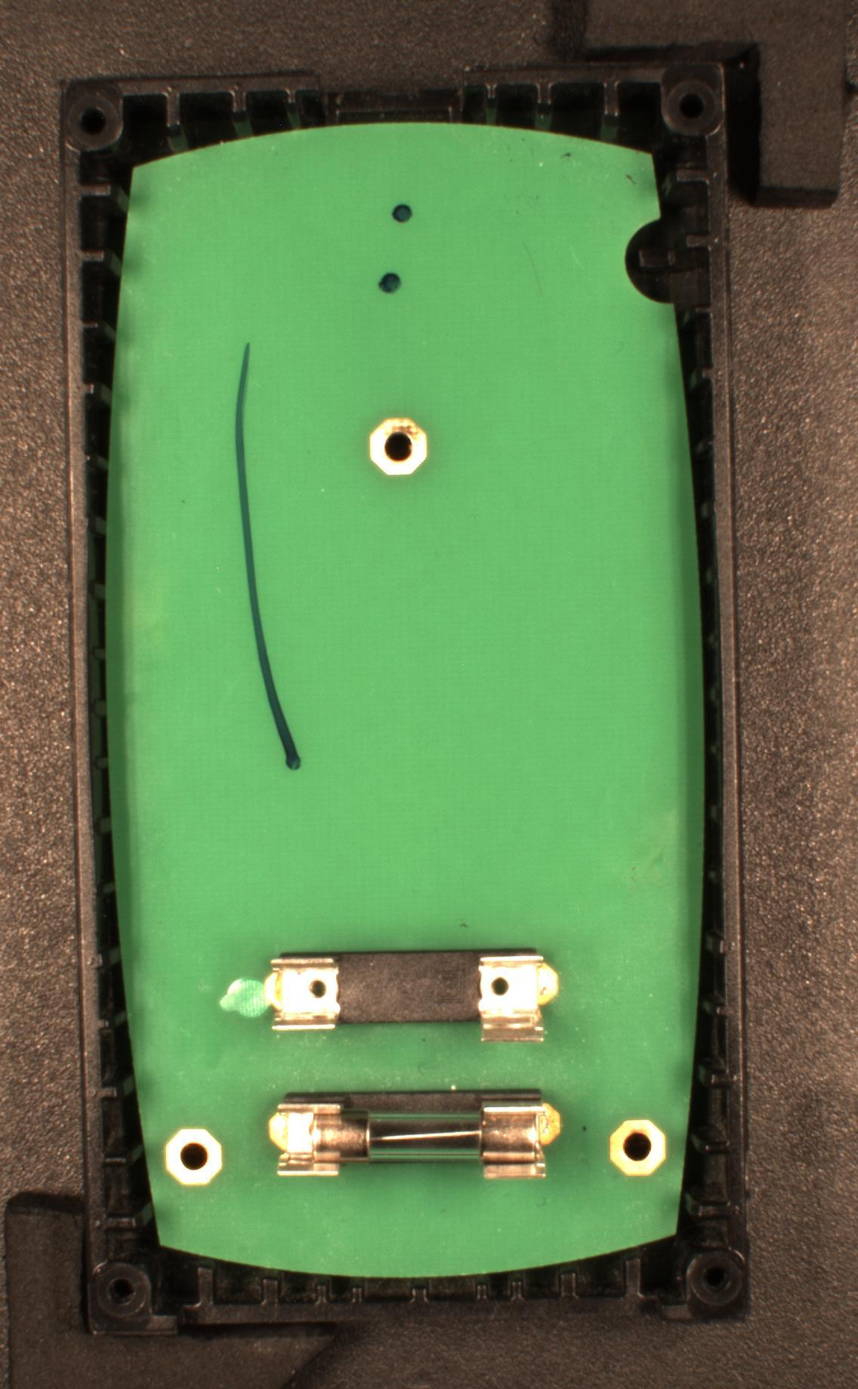Linijsko Ostecene: (231, 341, 304, 774)
Nepostojanje osiguraca: (262, 946, 559, 1043)
Tockasto Ostecenje: (377, 271, 404, 296), (389, 202, 417, 226)
